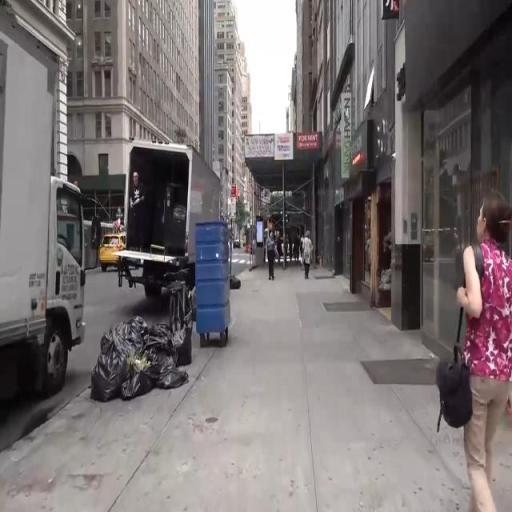person: (422, 205, 512, 512), (303, 232, 317, 282), (268, 231, 279, 280), (295, 235, 302, 265), (288, 236, 295, 258)
